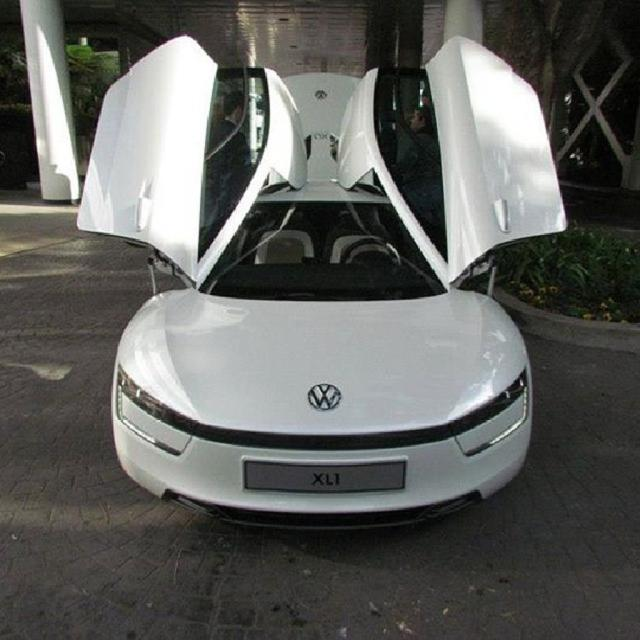car: (66, 0, 580, 543)
